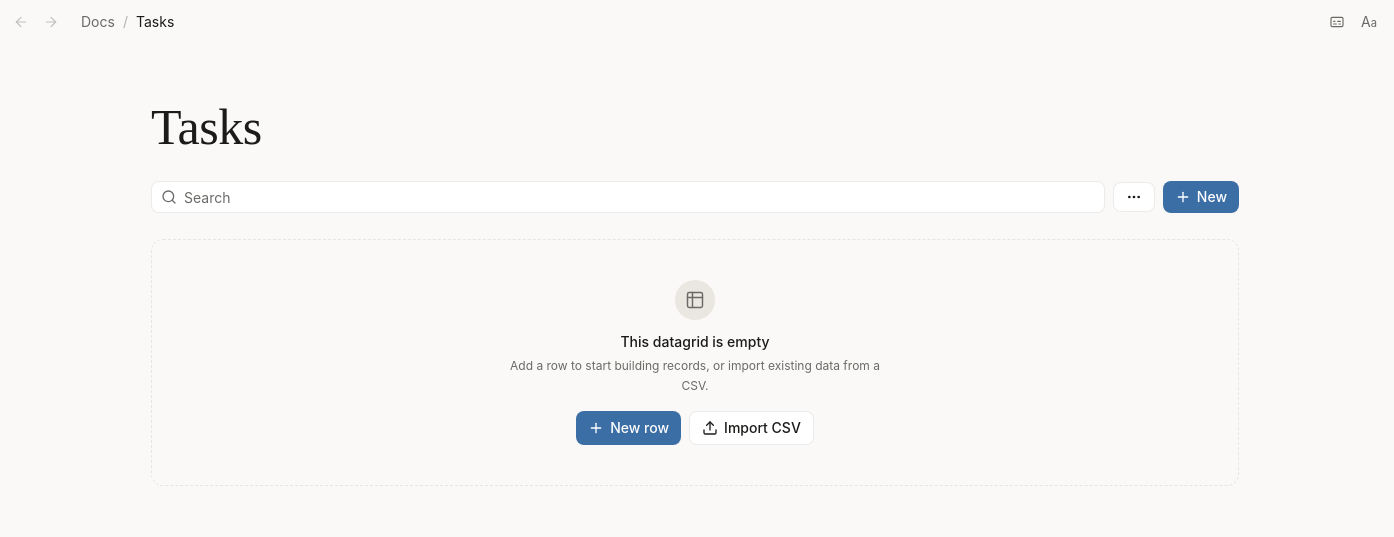
Scenario: DatagridPage › toggles the subtitle slot and shows an editable subtitle
Click the button named "Show subtitle". click: (1337,22)
box: [1323, 8, 1351, 36]
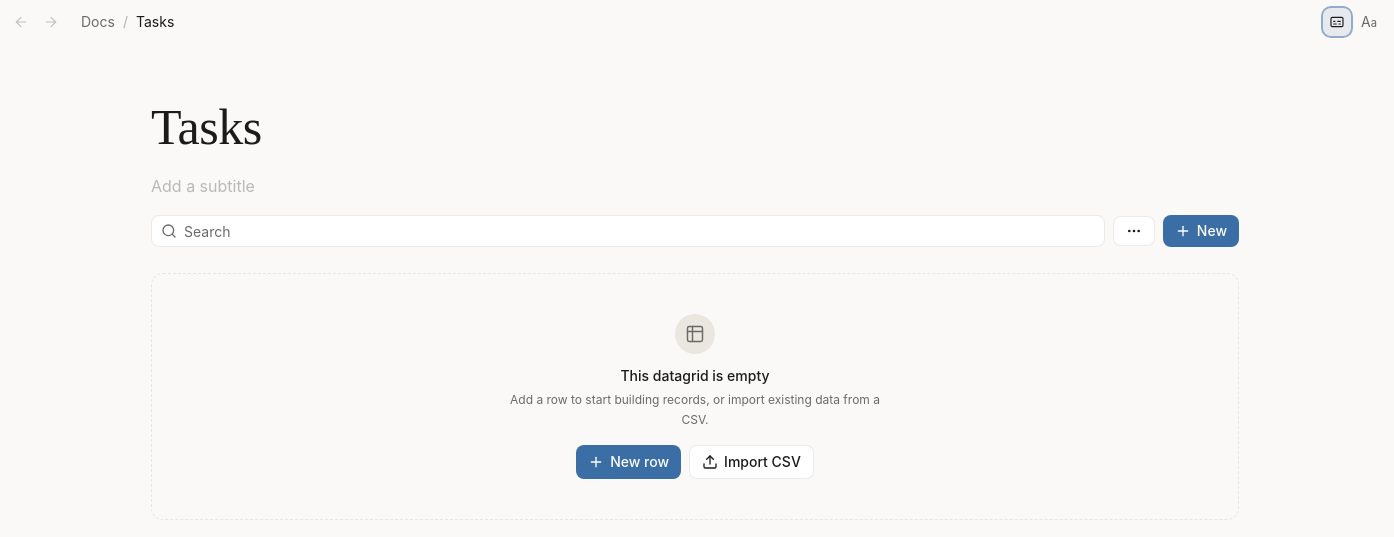
Result: the text box named "Datagrid subtitle" is shown at [151, 175, 1239, 197]
